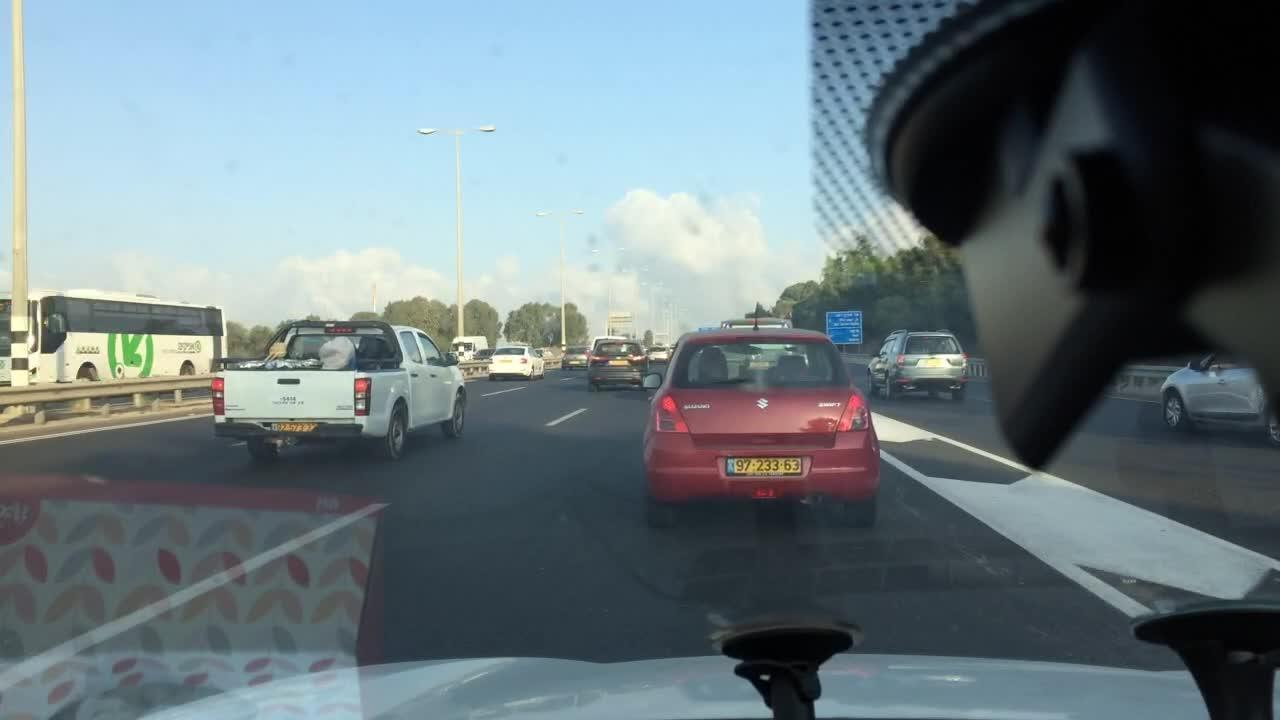suzuki: (752, 392, 775, 415)
